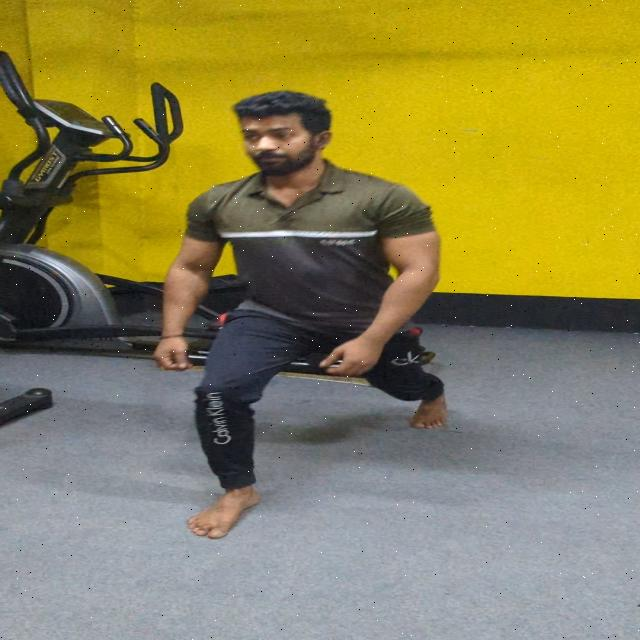Normal_Lunges: (61, 83, 640, 578)
